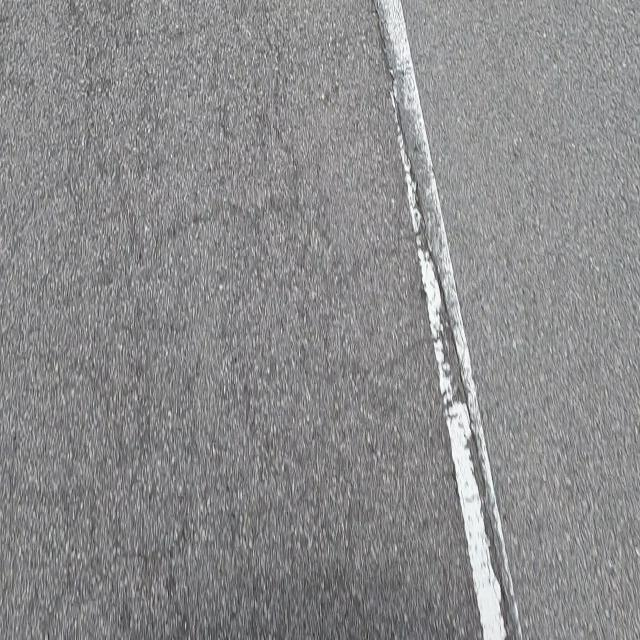Retak-Memanjang: (372, 7, 506, 614)
